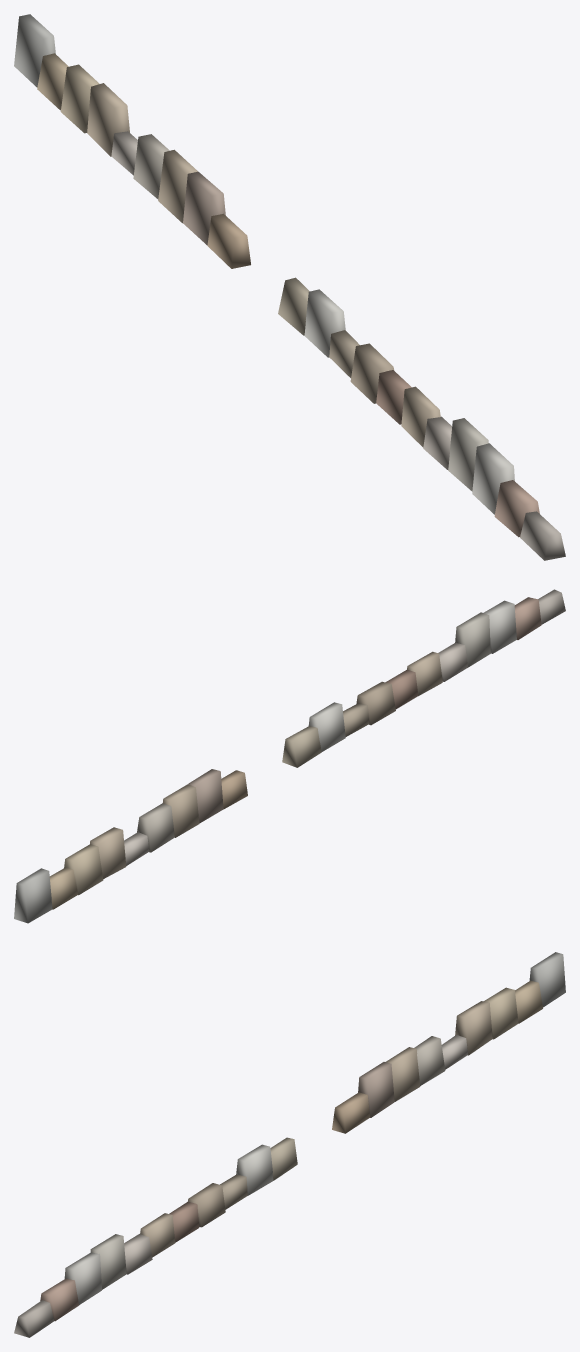
File: farm_7_12_far.glb
The picture shows the model from 3 angles, top to bottom: view 1: azimuth 30°, elevation 25°; view 2: azimuth 150°, elevation 25°; view 3: azimuth 330°, elevation 25°; orthographic projection. The views are drawn at different scales.
Visible parts, largest first — view 1: geometry_0; view 2: geometry_0; view 3: geometry_0.
Part boxes in pixels (<box>): geometry_0: <box>14,14,565,560</box>; geometry_0: <box>14,589,565,923</box>; geometry_0: <box>14,952,565,1337</box>.
Size of the model in its own units: 3.42 by 2.16 by 34.2.
